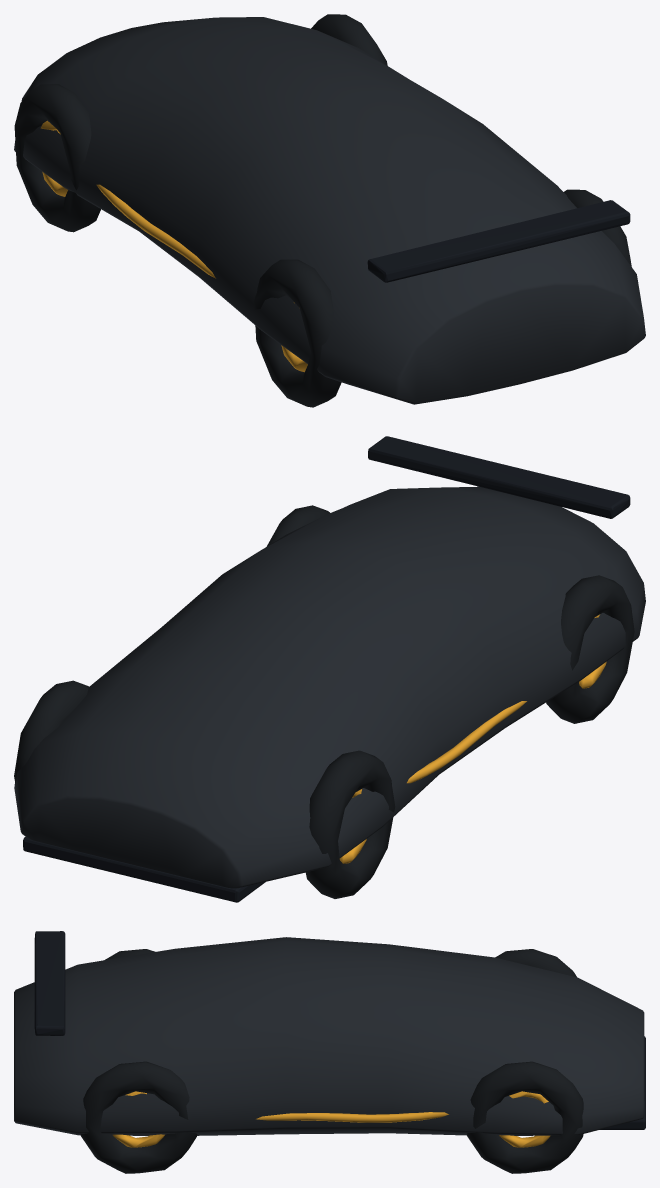
File: Rival02_Muscle_LOD1.fbx
3 renders of one model, top to bottom at view 1: azimuth 30°, elevation 25°; view 2: azimuth 150°, elevation 25°; view 3: azimuth 270°, elevation 25°, orthographic. The views are drawn at different scales.
Visible parts, largest first — view 1: Rival02_Muscle_Body_LOD1, Rival02_Muscle_Wheel_FL_LOD1, Rival02_Muscle_Wheel_RL_LOD1, Rival02_Muscle_Wheel_FR_LOD1, Rival02_Muscle_Wheel_RR_LOD1; view 2: Rival02_Muscle_Body_LOD1, Rival02_Muscle_Wheel_FL_LOD1, Rival02_Muscle_Wheel_RL_LOD1, Rival02_Muscle_Wheel_FR_LOD1, Rival02_Muscle_Wheel_RR_LOD1; view 3: Rival02_Muscle_Body_LOD1, Rival02_Muscle_Wheel_FR_LOD1, Rival02_Muscle_Wheel_RR_LOD1, Rival02_Muscle_Wheel_FL_LOD1.
Boxes of the visible parts, x1,y1,x2,y2 form: Rival02_Muscle_Body_LOD1: (14,17,645,404); Rival02_Muscle_Wheel_FL_LOD1: (14,84,100,232); Rival02_Muscle_Wheel_RL_LOD1: (254,259,341,407); Rival02_Muscle_Wheel_FR_LOD1: (311,14,387,65); Rival02_Muscle_Wheel_RR_LOD1: (564,189,631,266); Rival02_Muscle_Body_LOD1: (14,436,645,902); Rival02_Muscle_Wheel_FL_LOD1: (306,750,395,898); Rival02_Muscle_Wheel_RL_LOD1: (546,575,634,723); Rival02_Muscle_Wheel_FR_LOD1: (14,680,88,784); Rival02_Muscle_Wheel_RR_LOD1: (267,505,329,546); Rival02_Muscle_Body_LOD1: (14,931,645,1135); Rival02_Muscle_Wheel_FR_LOD1: (466,1061,583,1173); Rival02_Muscle_Wheel_RR_LOD1: (80,1061,197,1173); Rival02_Muscle_Wheel_FL_LOD1: (495,949,576,977).
Size of the model in its own units: 2.16 by 1.29 by 4.55.
